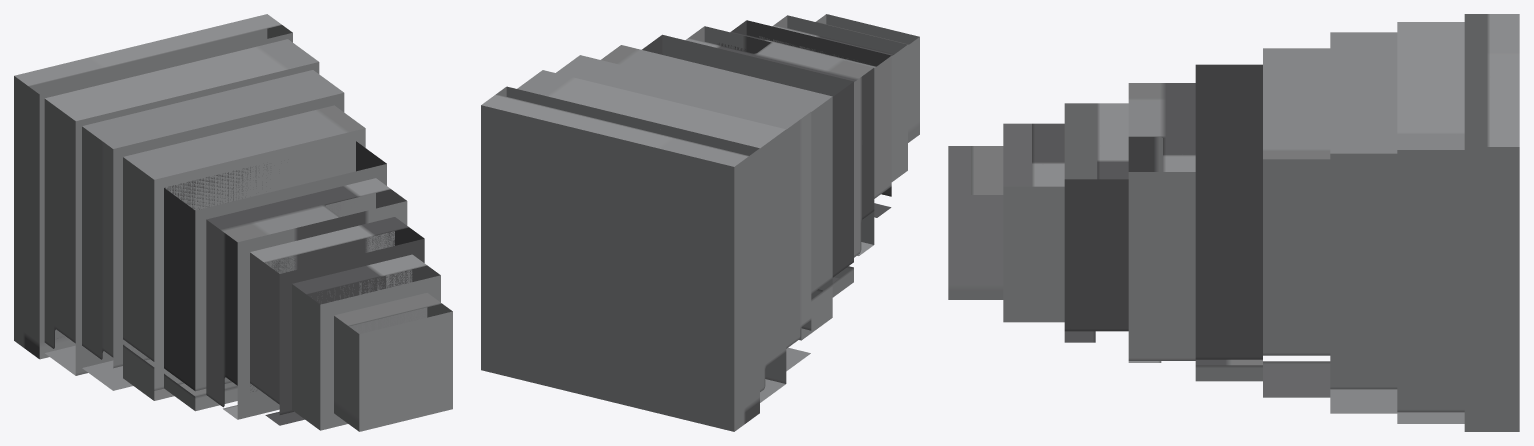
The picture shows the model from 3 angles, left to right: view 1: azimuth 30°, elevation 25°; view 2: azimuth 150°, elevation 25°; view 3: azimuth 270°, elevation 25°; orthographic projection. The views are drawn at different scales.
Size of the model in its own units: 0.8755 by 0.8755 by 1.59.
